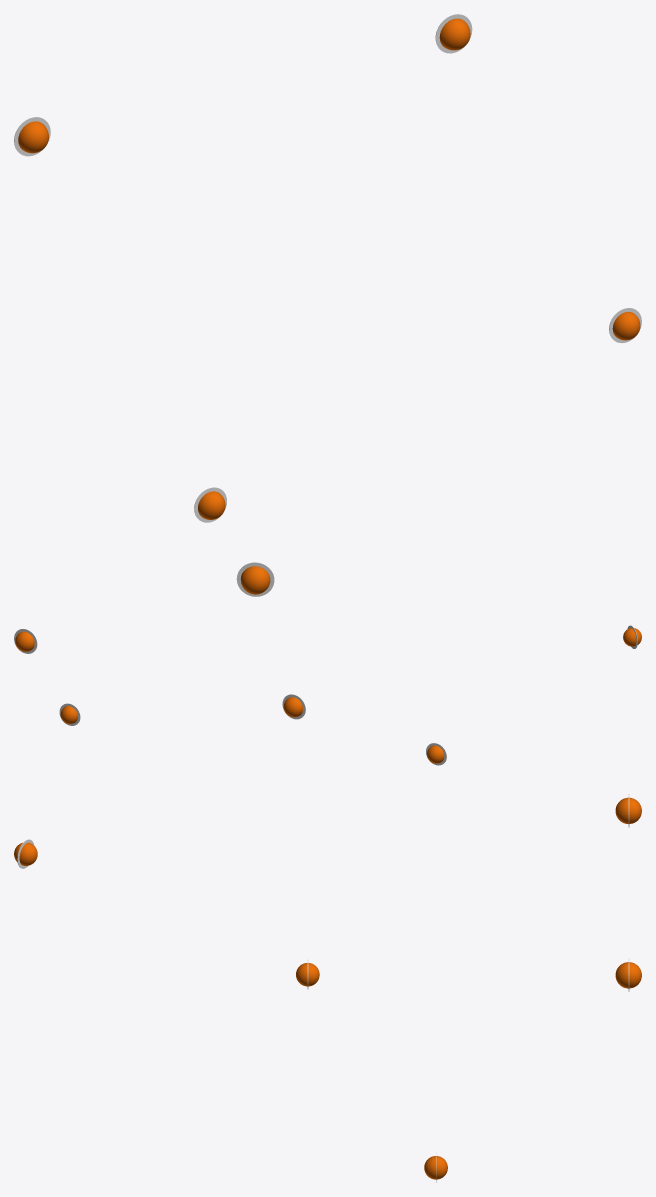
File: wood_L5.glb
3 views of the same model, one above another, from view 1: azimuth 30°, elevation 25°; view 2: azimuth 150°, elevation 25°; view 3: azimuth 270°, elevation 25° (orthographic). The views are drawn at different scales.
Parts seen in each view (by area): view 1: _l5_Sphere.003, _l5_Sphere.004, _l5_Sphere, _l5_Sphere.001, _l5_Sphere.002; view 2: _l5_Sphere.004, _l5_Sphere.003, _l5_Sphere.002, _l5_Sphere.001, _l5_Sphere; view 3: _l5_Sphere.004, _l5_Sphere.003.
Boxes of the visible parts, bbox=[...] form: _l5_Sphere.003: bbox=[435, 14, 472, 53]; _l5_Sphere.004: bbox=[14, 117, 50, 156]; _l5_Sphere: bbox=[236, 562, 274, 596]; _l5_Sphere.001: bbox=[194, 487, 226, 522]; _l5_Sphere.002: bbox=[609, 308, 641, 343]; _l5_Sphere.004: bbox=[282, 694, 305, 719]; _l5_Sphere.003: bbox=[14, 629, 37, 653]; _l5_Sphere.002: bbox=[59, 703, 80, 725]; _l5_Sphere.001: bbox=[426, 743, 446, 765]; _l5_Sphere: bbox=[623, 625, 641, 648]; _l5_Sphere.004: bbox=[615, 794, 641, 827]; _l5_Sphere.003: bbox=[615, 959, 641, 991].
Size of the model in its own units: 10.44 by 3.83 by 10.82.
